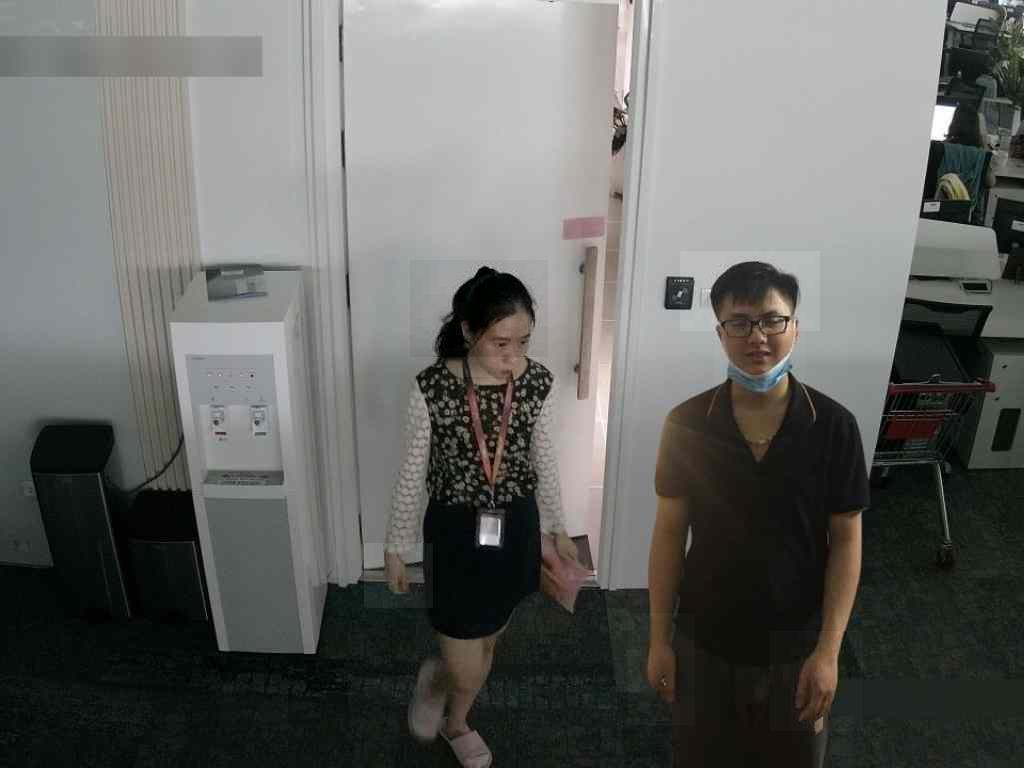no_apron: (771, 631, 864, 731), (628, 613, 696, 725), (365, 543, 434, 608)
no_gloves: (411, 261, 549, 358), (680, 251, 820, 331)
no_hairnet: (713, 282, 806, 394), (459, 290, 539, 377)
